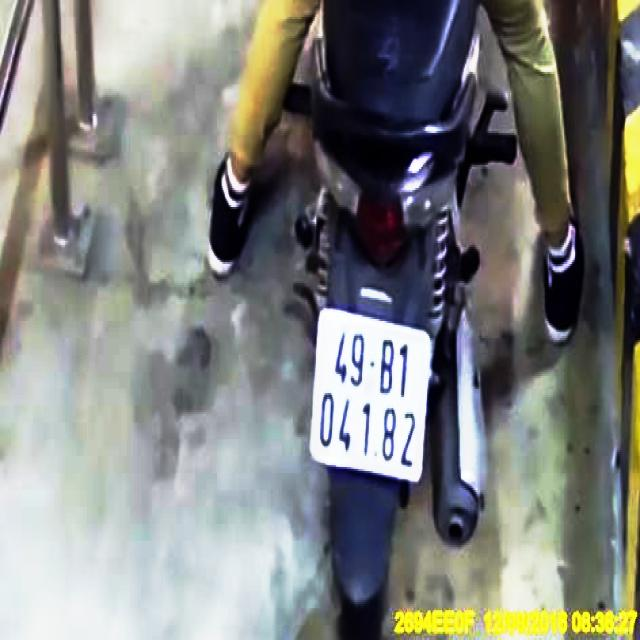license_plate: (312, 308, 433, 483)
